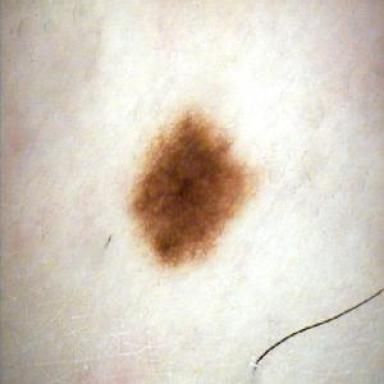Melanoma: (131, 109, 257, 266)
